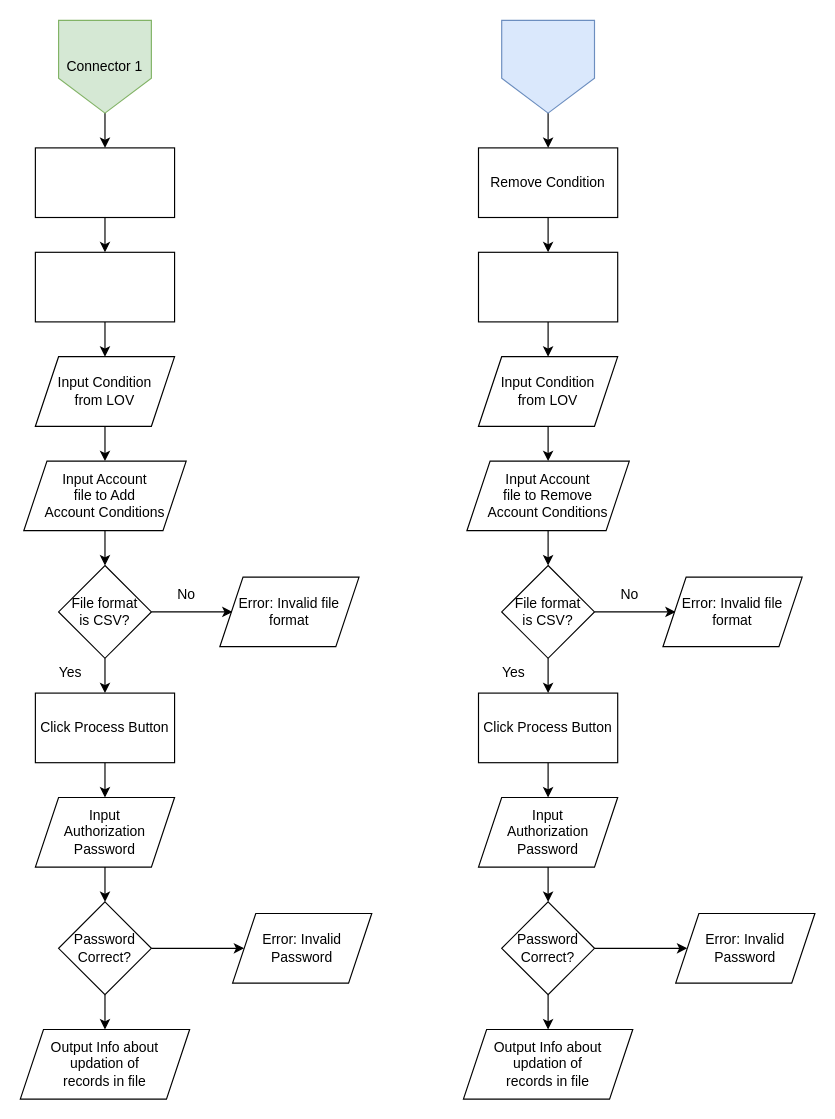
Image size: 835x1119. Some labels were removed from this diagram. The centre of each missing label's shape, as x and y in pixels:
Add Radio Button Selected: [104,286]
Apply Condition: [104,182]
Connector 2: [547,66]
Remove Radio Button Selected: [547,286]
